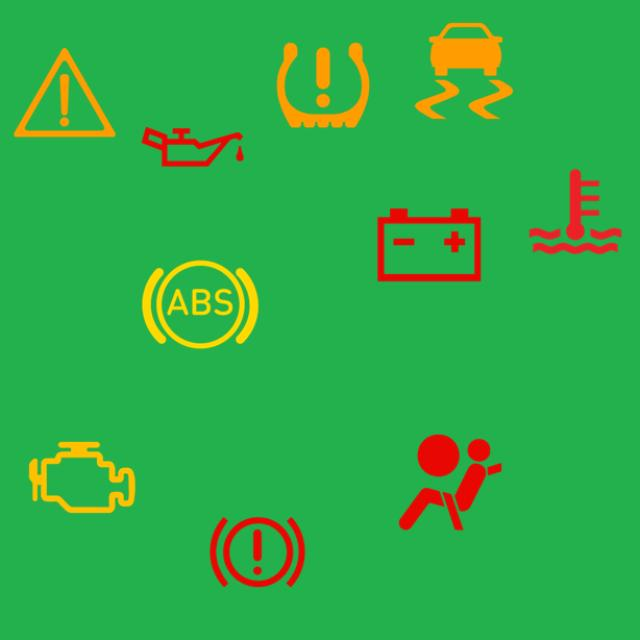Anti Lock Braking System: (136, 241, 264, 368)
Braking System Issue: (194, 489, 321, 616)
Charging System Issue: (366, 182, 493, 308)
Check Engine: (19, 414, 146, 541)
Electronic Stability Problem -ESP-: (400, 8, 528, 134)
Engine Overheating Warning Light: (512, 148, 639, 275)
Low Engine Oil Warning Light: (130, 84, 256, 210)
Low Tire Pressure Warning Light: (259, 22, 386, 149)
Master warning light: (1, 30, 128, 156)
SRS-Airbag: (387, 419, 514, 546)
